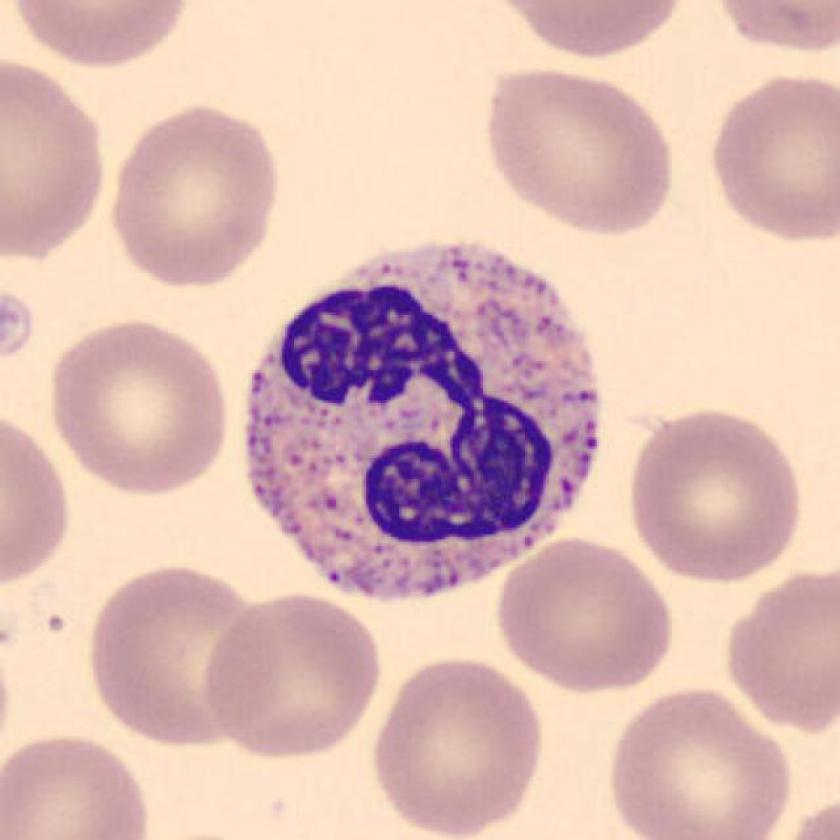neutrophil: (246, 243, 597, 596)
